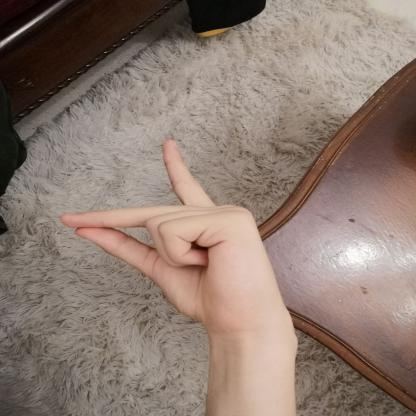TAA: (47, 130, 303, 340)
